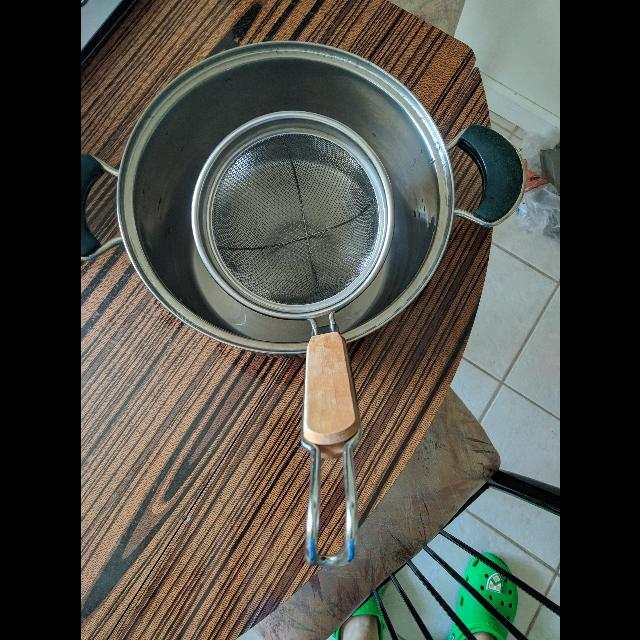Handle: (293, 308, 366, 571)
Strainer: (187, 102, 405, 325)
